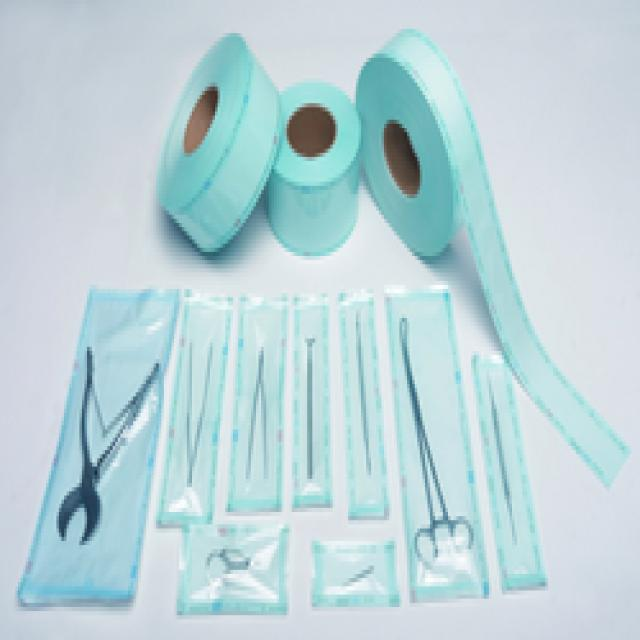B3: (376, 281, 497, 619)
